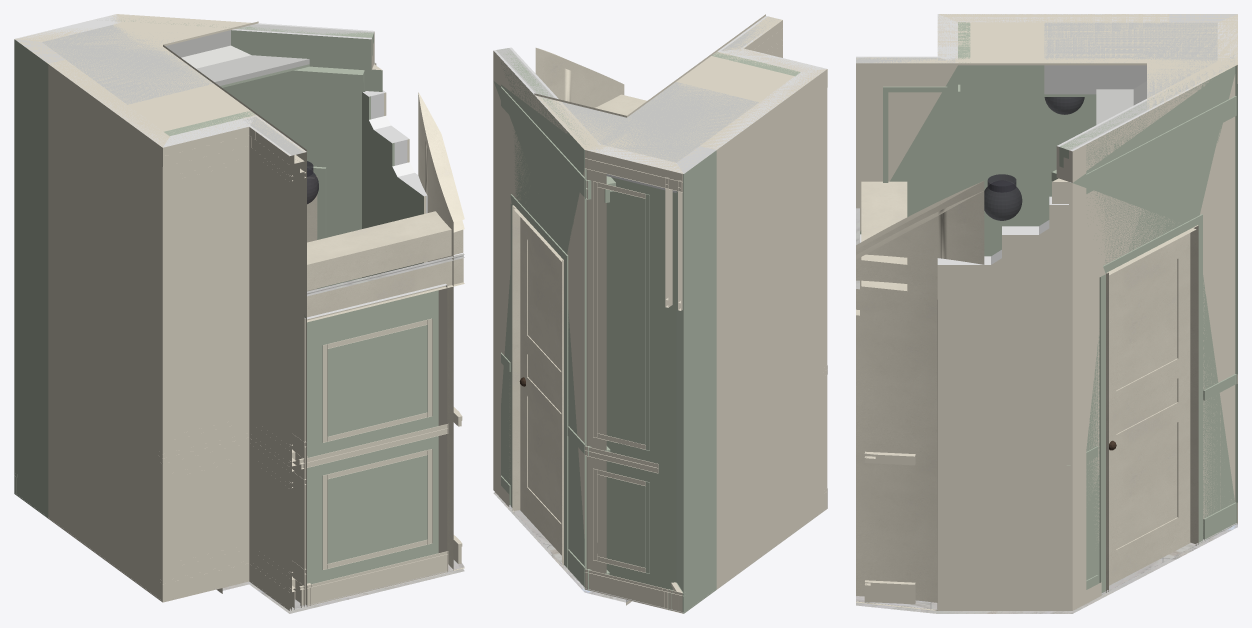
File: powder-room-a2cca6b68652.glb
3 renders of one model, left to right at view 1: azimuth 30°, elevation 25°; view 2: azimuth 150°, elevation 25°; view 3: azimuth 270°, elevation 25°, orthographic. The views are drawn at different scales.
Visible parts, largest first — view 1: powder-room-d33eebe572d154f2, powder-room-1a8091885ac212af, powder-room-ab5cb5e7d303dd66, powder-room-85f0fd939e0fcc78, powder-room-9b21989b25895c4a, powder-room-a5eabba2ad6474eb, powder-room-2575515a05775d9e, powder-room-5b07a8f5f7929ff6, powder-room-ca6eafacc0f493ac, powder-room-3d7935a3f1355396, powder-room-261aa5c5ae0f77af, powder-room-b74e3495b7e70350 (+11 smaller); view 2: powder-room-d33eebe572d154f2, powder-room-a5eabba2ad6474eb, powder-room-b2b5f93b4255576d, powder-room-9b21989b25895c4a, powder-room-539cd4ce99668665, powder-room-2575515a05775d9e, powder-room-5b07a8f5f7929ff6, powder-room-86d6fc7292b21ae1, powder-room-ae2ab6de1156d266, powder-room-48dc2409da547ff7, powder-room-b74e3495b7e70350, powder-room-f5fbb4dd3b92b4c5 (+14 smaller); view 3: powder-room-d65b0a574c2ac13c, powder-room-a5eabba2ad6474eb, powder-room-b74e3495b7e70350, powder-room-539cd4ce99668665, powder-room-d33eebe572d154f2, powder-room-2575515a05775d9e, powder-room-85f0fd939e0fcc78, powder-room-5b07a8f5f7929ff6, powder-room-48dc2409da547ff7, powder-room-86d6fc7292b21ae1, powder-room-48dd1d74e06d76de, powder-room-ca6eafacc0f493ac (+17 smaller).
Part boxes in pixels (<box>): powder-room-d33eebe572d154f2: <box>48,60,167,601</box>; powder-room-1a8091885ac212af: <box>163,116,255,602</box>; powder-room-ab5cb5e7d303dd66: <box>306,283,447,605</box>; powder-room-85f0fd939e0fcc78: <box>243,115,306,610</box>; powder-room-9b21989b25895c4a: <box>14,39,64,518</box>; powder-room-a5eabba2ad6474eb: <box>97,14,382,286</box>; powder-room-2575515a05775d9e: <box>14,14,306,155</box>; powder-room-5b07a8f5f7929ff6: <box>42,24,309,104</box>; powder-room-ca6eafacc0f493ac: <box>307,211,463,290</box>; powder-room-3d7935a3f1355396: <box>362,92,426,277</box>; powder-room-261aa5c5ae0f77af: <box>306,258,464,322</box>; powder-room-b74e3495b7e70350: <box>418,103,464,570</box>; powder-room-d33eebe572d154f2: <box>701,69,827,589</box>; powder-room-a5eabba2ad6474eb: <box>493,47,606,589</box>; powder-room-b2b5f93b4255576d: <box>584,145,683,593</box>; powder-room-9b21989b25895c4a: <box>676,146,716,613</box>; powder-room-539cd4ce99668665: <box>520,217,561,555</box>; powder-room-2575515a05775d9e: <box>534,14,826,173</box>; powder-room-5b07a8f5f7929ff6: <box>562,82,758,162</box>; powder-room-86d6fc7292b21ae1: <box>512,205,563,565</box>; powder-room-ae2ab6de1156d266: <box>593,181,649,450</box>; powder-room-48dc2409da547ff7: <box>510,194,568,567</box>; powder-room-b74e3495b7e70350: <box>535,57,624,107</box>; powder-room-f5fbb4dd3b92b4c5: <box>585,569,682,613</box>; powder-room-d65b0a574c2ac13c: <box>937,204,1068,610</box>; powder-room-a5eabba2ad6474eb: <box>1052,54,1235,610</box>; powder-room-b74e3495b7e70350: <box>856,191,984,610</box>; powder-room-539cd4ce99668665: <box>1109,233,1190,585</box>; powder-room-d33eebe572d154f2: <box>938,14,1169,256</box>; powder-room-2575515a05775d9e: <box>856,14,1237,110</box>; powder-room-85f0fd939e0fcc78: <box>856,56,957,234</box>; powder-room-5b07a8f5f7929ff6: <box>1044,22,1217,124</box>; powder-room-48dc2409da547ff7: <box>1099,214,1202,594</box>; powder-room-86d6fc7292b21ae1: <box>1106,225,1198,592</box>; powder-room-48dd1d74e06d76de: <box>1086,96,1236,193</box>; powder-room-ca6eafacc0f493ac: <box>861,181,907,290</box>.
Size of the model in its own units: 1.92 by 3.05 by 2.26.
Materials: 21 (5 with a texture image).
